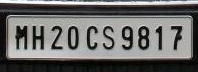0: (66, 25, 80, 50)
1: (154, 25, 164, 51)
2: (49, 25, 63, 49)
7: (169, 25, 183, 51)
8: (136, 25, 151, 50)
9: (120, 25, 135, 51)
C: (85, 25, 98, 50)
H: (31, 25, 45, 50)
M: (15, 25, 27, 50)
S: (101, 25, 115, 50)
